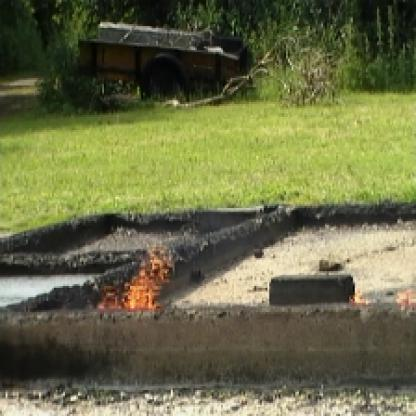Fire: (96, 241, 188, 314), (334, 269, 414, 305)
